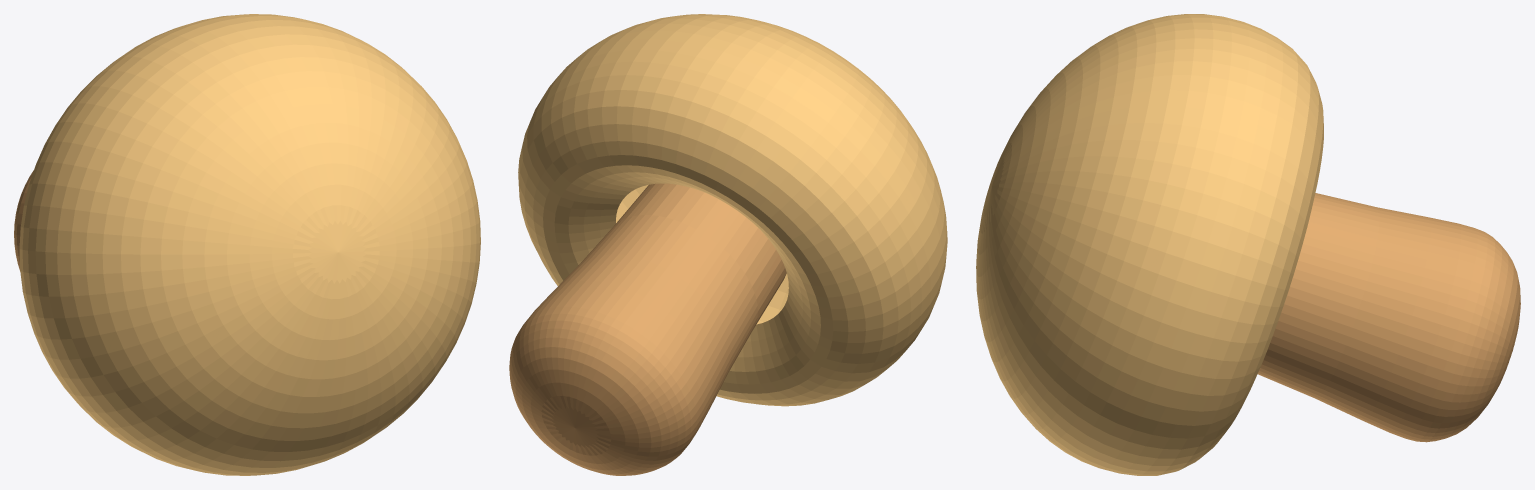
Rendered from champignon.glb.
3 renders of one model, left to right at view 1: azimuth 30°, elevation 25°; view 2: azimuth 150°, elevation 25°; view 3: azimuth 270°, elevation 25°, orthographic. The views are drawn at different scales.
Parts seen in each view (by area): view 1: Sphere008; view 2: Sphere008; view 3: Sphere008.
Part boxes in pixels (bbox=[...]): Sphere008: bbox=[14, 14, 480, 475]; Sphere008: bbox=[509, 14, 947, 475]; Sphere008: bbox=[976, 14, 1520, 475].
Size of the model in its own units: 1.57 by 1.46 by 1.74.
